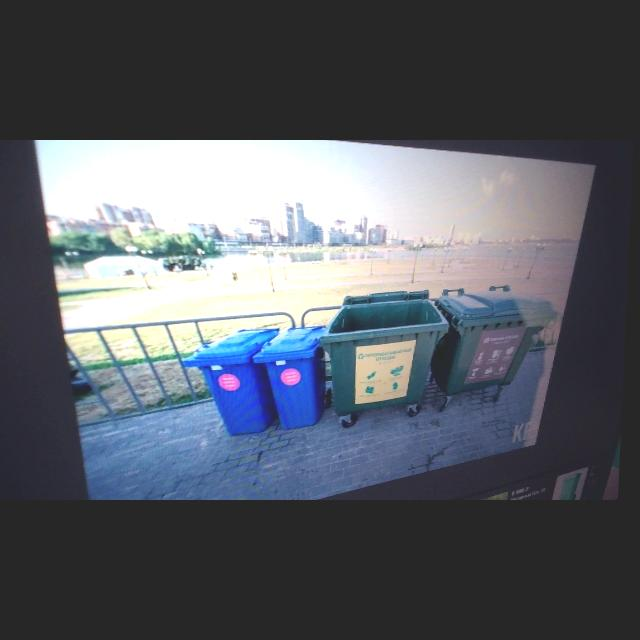Trash_Can_Closed: (434, 288, 561, 396), (184, 328, 282, 436), (253, 325, 331, 430)
Trash_Can_Empty: (322, 297, 452, 414)
